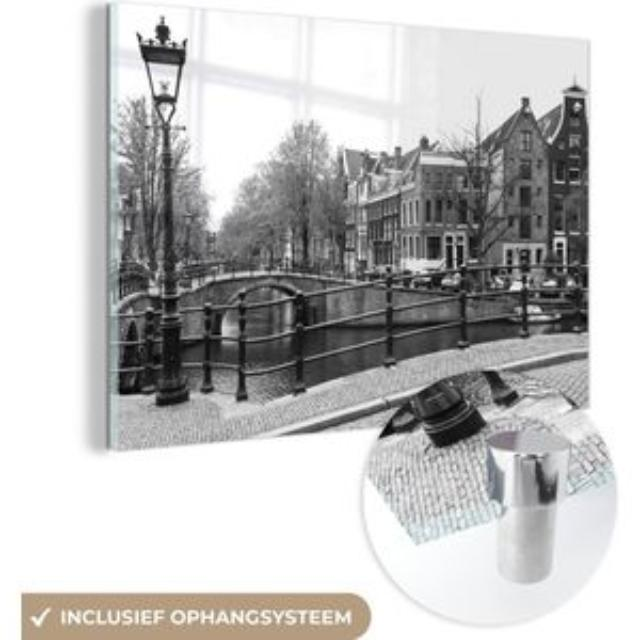Street-Lamp: (134, 15, 198, 405)
